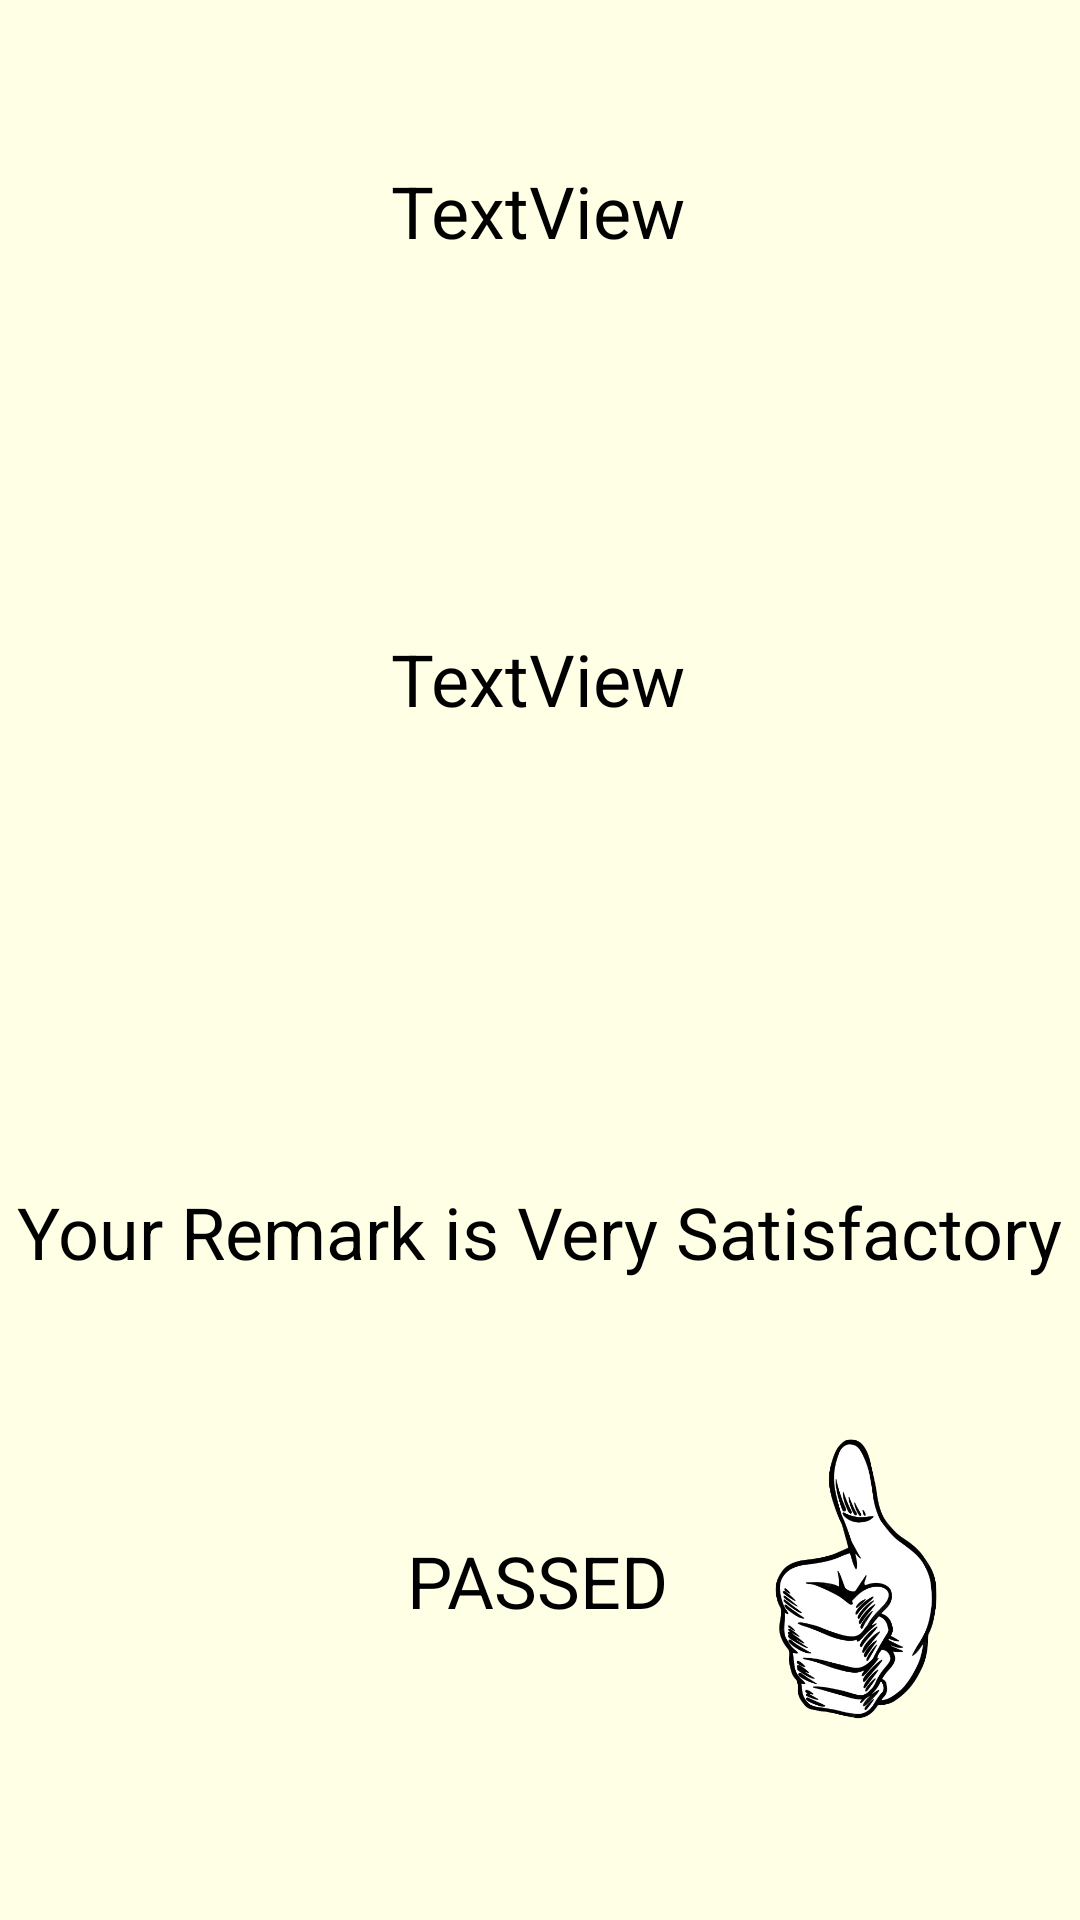

Icon click points for this 1080×1920 phone screenshot, format (x,y):
thumbt: (856,1578)
